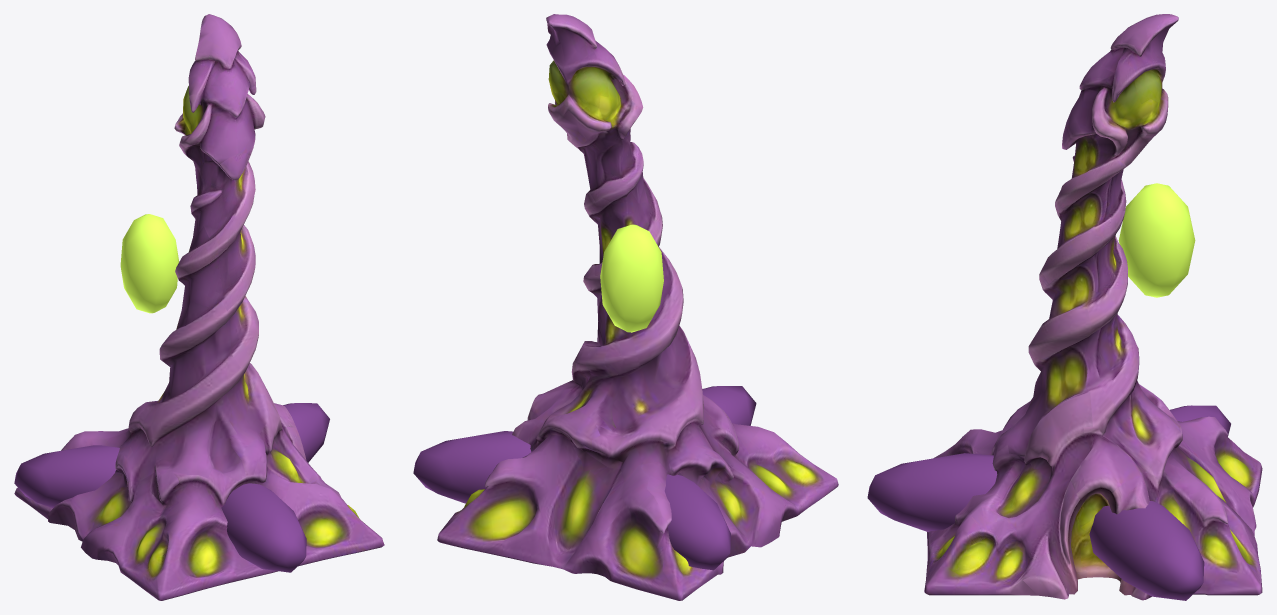
File: struct_swarm_pylon.glb
3 renders of one model, left to right at view 1: azimuth 30°, elevation 25°; view 2: azimuth 150°, elevation 25°; view 3: azimuth 270°, elevation 25°, orthographic. The views are drawn at different scales.
Visible parts, largest first — view 1: tripo_node_b6a22fff-2439-4cc8-81fd-52f7bd1b85a3, Structure silhouette details; view 2: tripo_node_b6a22fff-2439-4cc8-81fd-52f7bd1b85a3, Structure silhouette details; view 3: tripo_node_b6a22fff-2439-4cc8-81fd-52f7bd1b85a3, Structure silhouette details.
Boxes of the visible parts, box(x1,y1,x2,y2) form: tripo_node_b6a22fff-2439-4cc8-81fd-52f7bd1b85a3: box(14, 14, 384, 600); Structure silhouette details: box(14, 214, 329, 572); tripo_node_b6a22fff-2439-4cc8-81fd-52f7bd1b85a3: box(437, 14, 838, 600); Structure silhouette details: box(413, 224, 756, 570); tripo_node_b6a22fff-2439-4cc8-81fd-52f7bd1b85a3: box(924, 14, 1262, 600); Structure silhouette details: box(867, 183, 1230, 600).
Size of the model in its own units: 0.8099 by 1.2 by 0.7939.
Materials: 3 (1 with a texture image).
